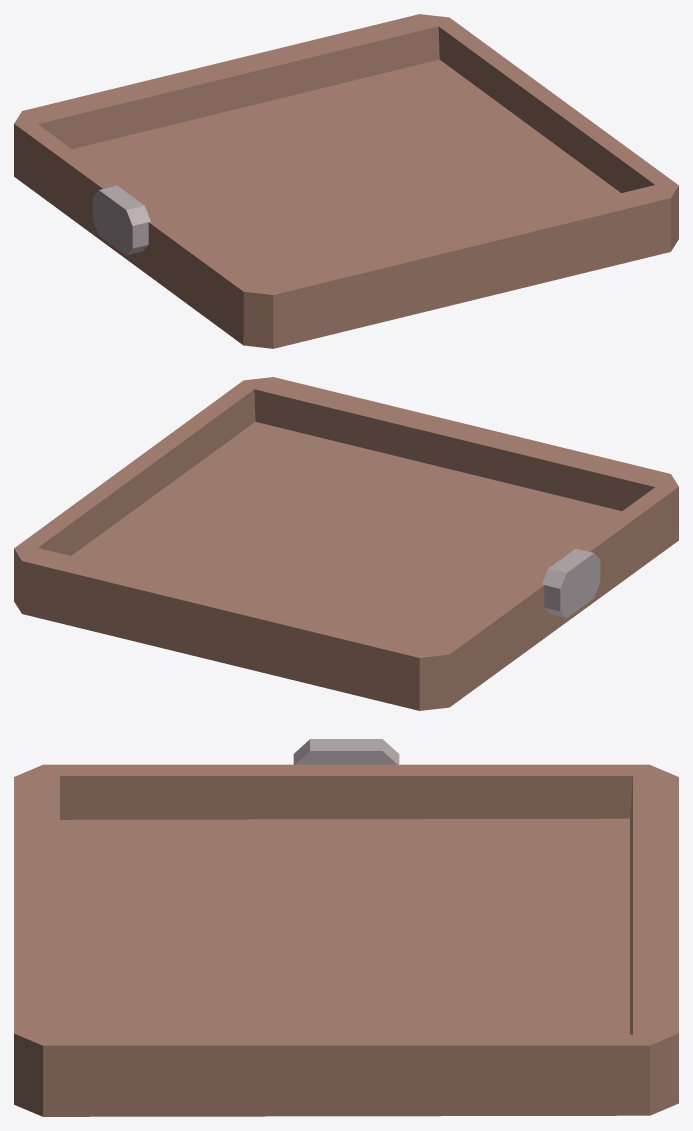
Rendered from Asset_Box_Couvercle.fbx.
The picture shows the model from 3 angles, top to bottom: view 1: azimuth 30°, elevation 25°; view 2: azimuth 150°, elevation 25°; view 3: azimuth 270°, elevation 25°; orthographic projection. The views are drawn at different scales.
Parts seen in each view (by area): view 1: Asset_Boite_Couvercle, Asset_sessrure; view 2: Asset_Boite_Couvercle, Asset_sessrure; view 3: Asset_Boite_Couvercle, Asset_sessrure.
Part boxes in pixels (x1,y1,x2,y2): Asset_Boite_Couvercle: (14, 14, 678, 348); Asset_sessrure: (92, 185, 150, 255); Asset_Boite_Couvercle: (14, 377, 678, 710); Asset_sessrure: (542, 548, 600, 618); Asset_Boite_Couvercle: (14, 764, 678, 1116); Asset_sessrure: (293, 739, 399, 765).
Size of the model in its own units: 375 by 51.83 by 361.
